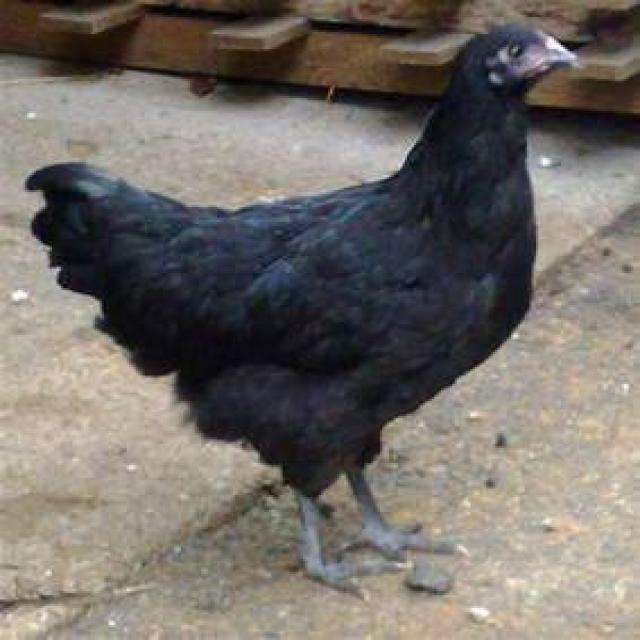animal: (23, 19, 581, 600)
